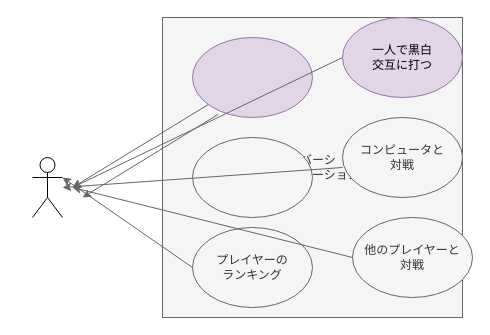
Image size: 490x335. Some labels were removed from this diagram. The box of each missing label's shape, as (x1, y1, x2, y2) in pixels:
プレイヤー: (32, 156, 62, 218)
会員登録 ログイン: (192, 136, 312, 218)
対戦する: (192, 36, 312, 118)
